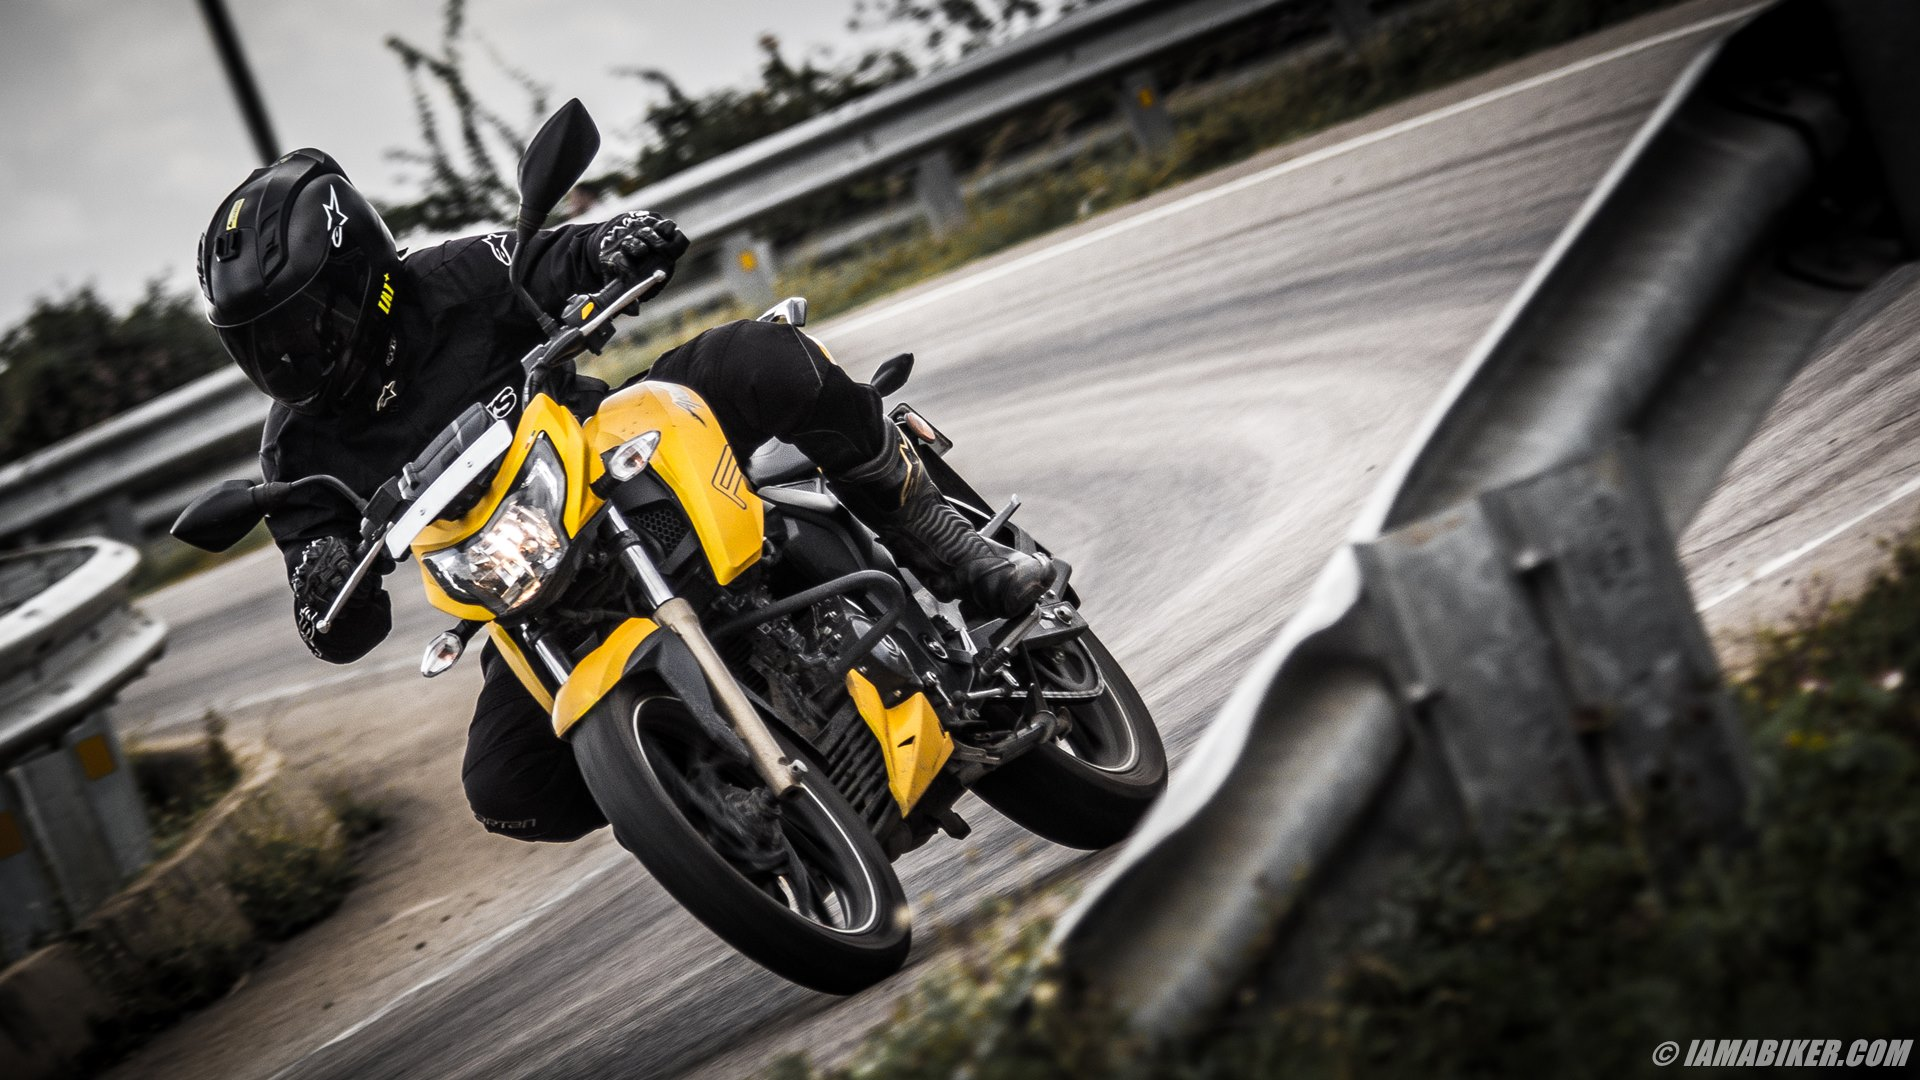helmet: (195, 164, 392, 371)
